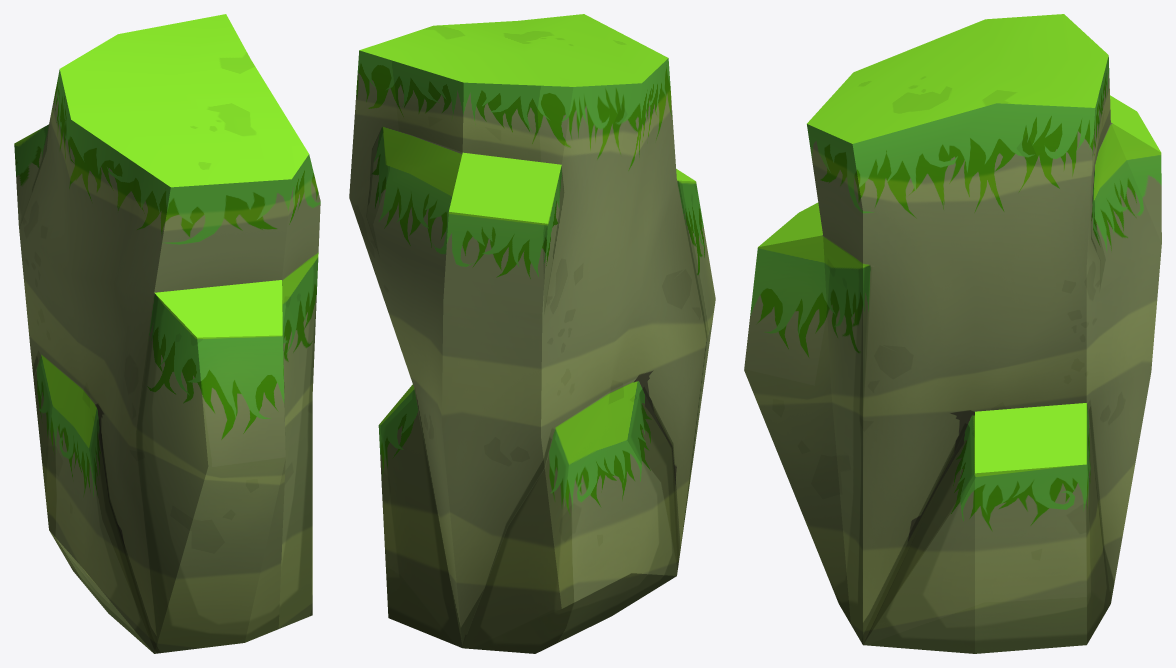
Rendered from F_W_O_rock_019.fbx.
The picture shows the model from 3 angles, left to right: view 1: azimuth 30°, elevation 25°; view 2: azimuth 150°, elevation 25°; view 3: azimuth 270°, elevation 25°; orthographic projection. The views are drawn at different scales.
Visible parts, largest first — view 1: F_W_O_rock_019; view 2: F_W_O_rock_019; view 3: F_W_O_rock_019.
Boxes of the visible parts, x1,y1,x2,y2 form: F_W_O_rock_019: [14, 14, 320, 653]; F_W_O_rock_019: [349, 14, 715, 653]; F_W_O_rock_019: [744, 14, 1161, 653].
Bounding box in the file's own units: 5.26 × 10.96 × 7.56.
